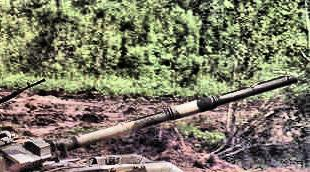tanks: (1, 77, 296, 172), (1, 92, 20, 105)
